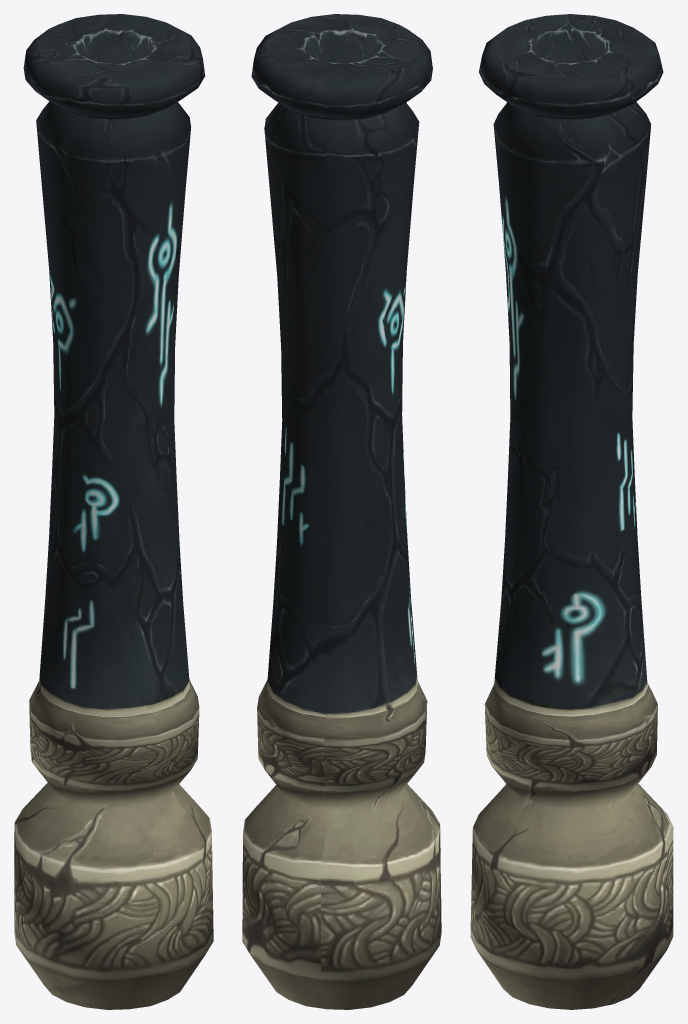
The model's file is relic_DYN_Pillar.fbx.
3 renders of one model, left to right at view 1: azimuth 30°, elevation 25°; view 2: azimuth 150°, elevation 25°; view 3: azimuth 270°, elevation 25°, orthographic.
Visible parts, largest first — view 1: pCylinder2; view 2: pCylinder2; view 3: pCylinder2.
Boxes of the visible parts, <box> form: pCylinder2: <box>14,14,213,1009</box>; pCylinder2: <box>242,14,441,1009</box>; pCylinder2: <box>470,14,673,1009</box>.
Bounding box in the file's own units: 1.99 × 10.22 × 2.01.
